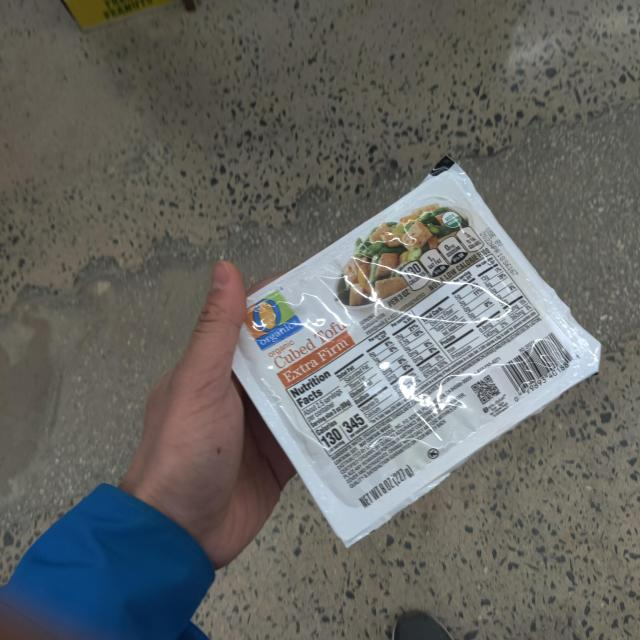Tofu: (212, 146, 624, 558)
